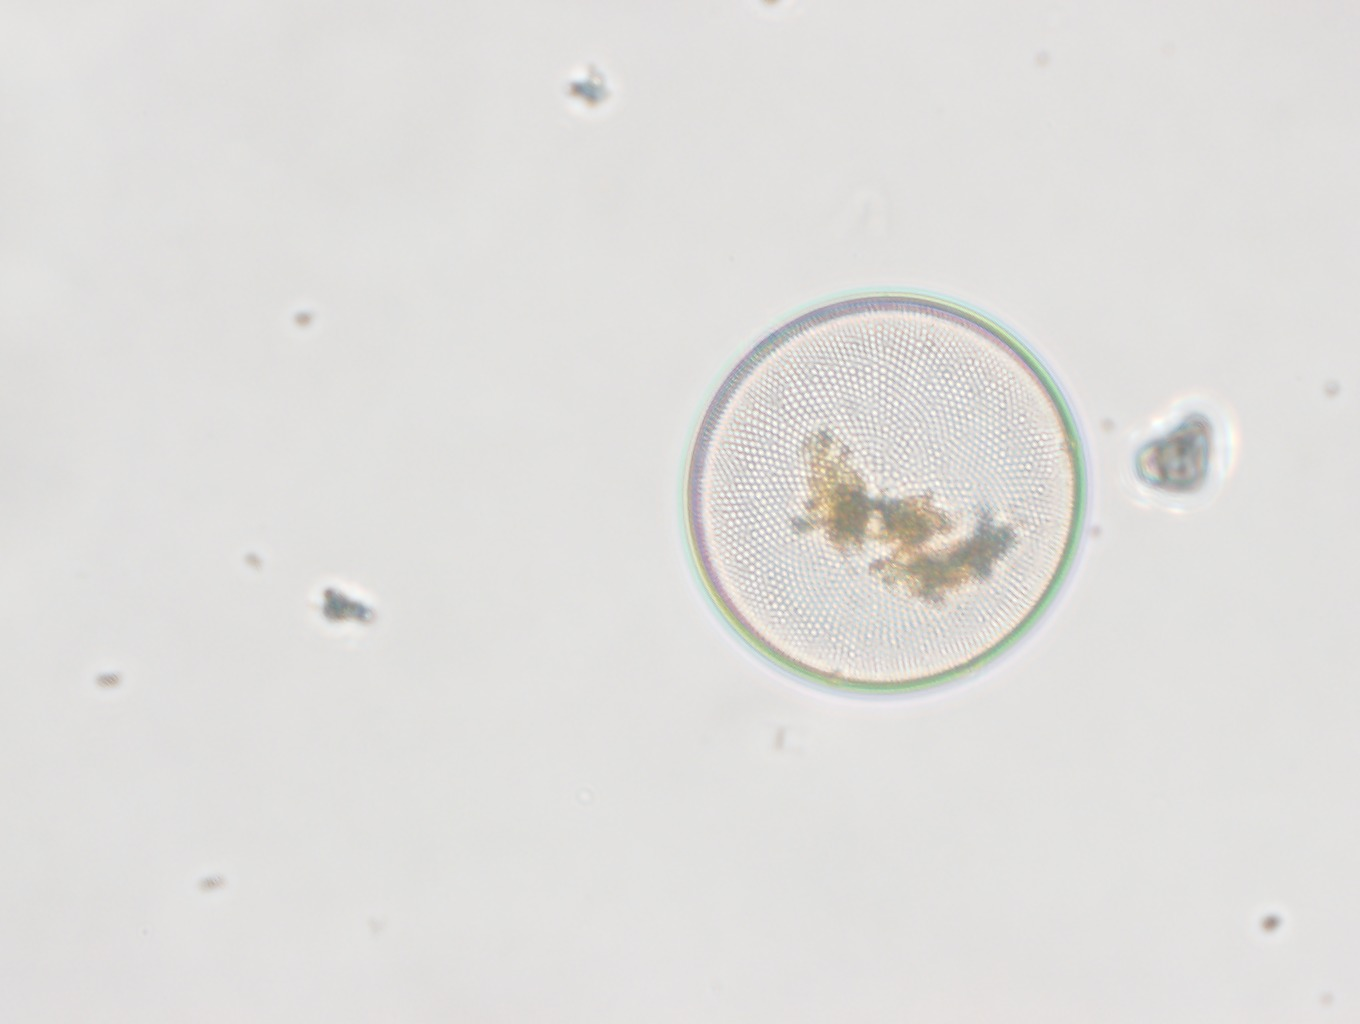coscinodiscus: (682, 294, 1086, 693)
